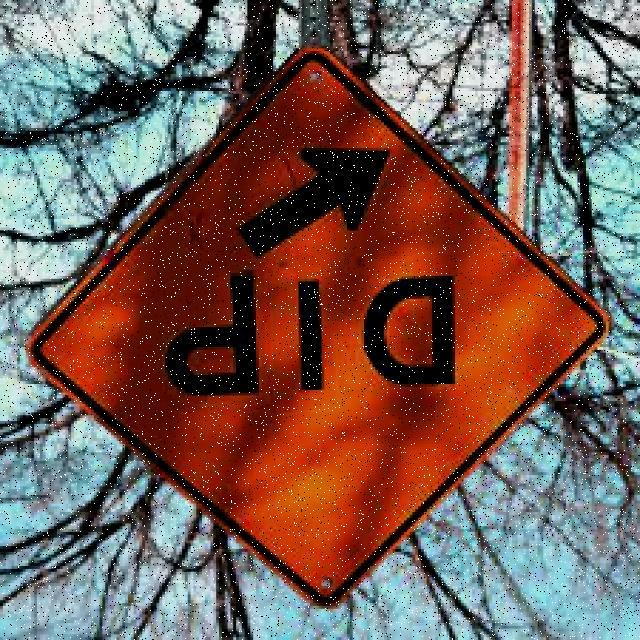Traffic sign: (23, 41, 618, 612)
